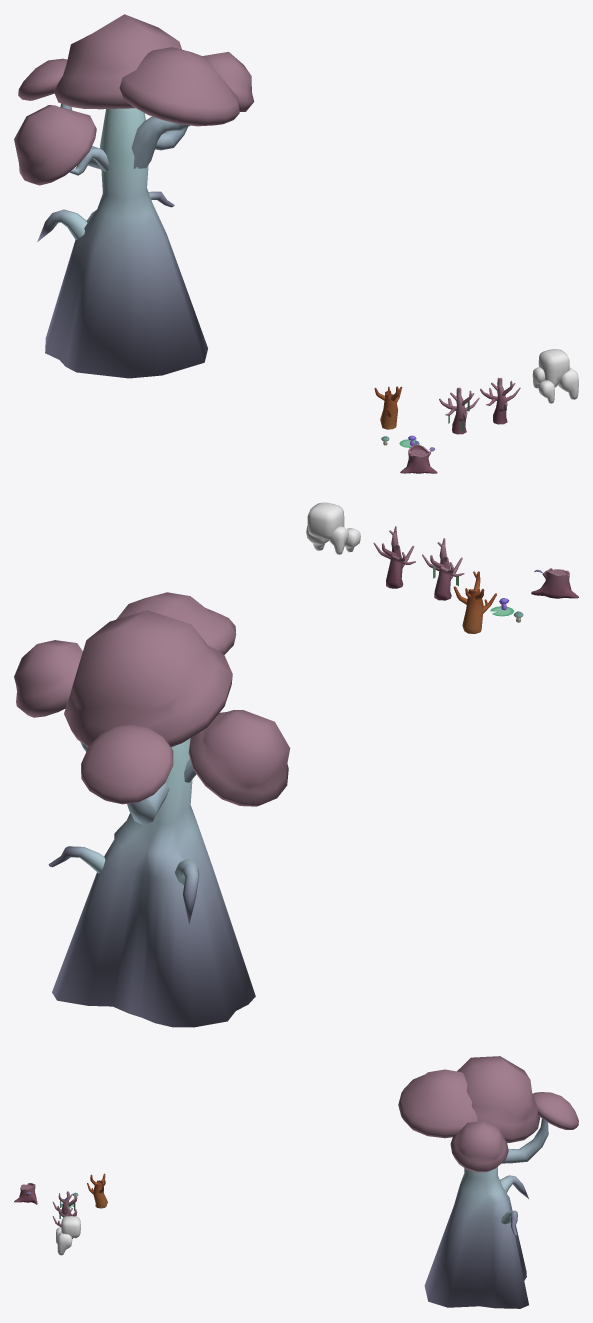
3 renders of one model, top to bottom at view 1: azimuth 30°, elevation 25°; view 2: azimuth 150°, elevation 25°; view 3: azimuth 270°, elevation 25°, orthographic. The views are drawn at different scales.
Visible parts, largest first — view 1: WorldTree_S3, Cube, Tree_S2_B.002, Tree_S2_B.003, Tree_BG_S3, Tree_S2_B.001; view 2: WorldTree_S3, Cube, Tree_S2_B.001, Tree_S2_B.002, Tree_S2_B.003, Tree_BG_S3; view 3: WorldTree_S3, Cube, Tree_S2_B.001, Tree_BG_S3.
Part boxes in pixels (x1,y1,x2,y2): WorldTree_S3: (14,14,254,378); Cube: (532,349,578,403); Tree_S2_B.002: (439,387,479,434); Tree_S2_B.003: (480,377,520,424); Tree_BG_S3: (400,444,437,473); Tree_S2_B.001: (374,386,402,429); WorldTree_S3: (14,592,290,1027); Cube: (306,502,360,554); Tree_S2_B.001: (453,571,496,633); Tree_S2_B.002: (422,538,464,600); Tree_S2_B.003: (373,526,415,588); Tree_BG_S3: (531,568,578,598); WorldTree_S3: (398,1056,578,1308); Cube: (56,1216,80,1255); Tree_S2_B.001: (87,1173,107,1208); Tree_BG_S3: (14,1183,37,1204).
Size of the model in its own units: 29.86 by 33.95 by 75.96.
